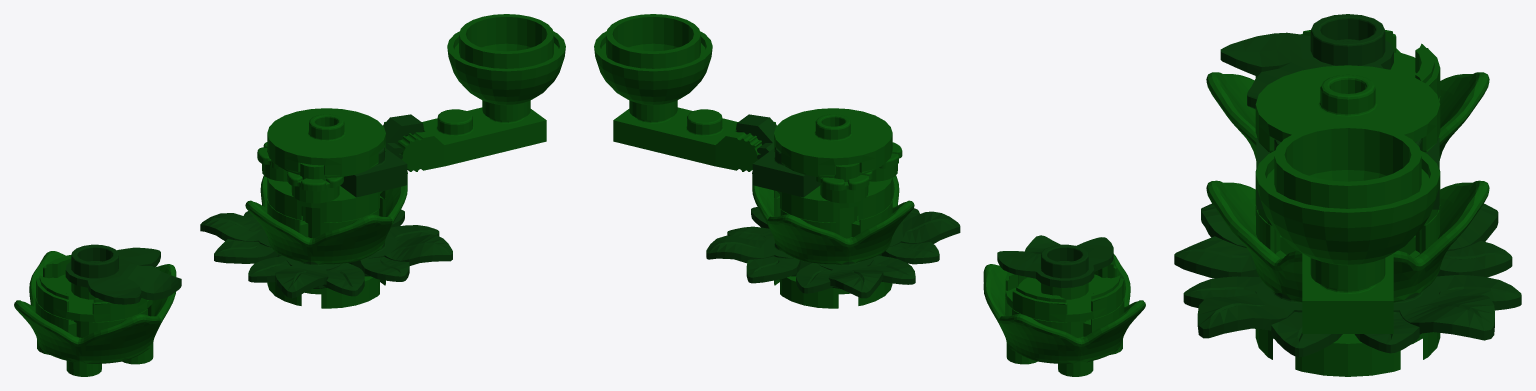
Rendered from CabbagePult.dae.
3 views of the same model, side by side, from view 1: azimuth 30°, elevation 25°; view 2: azimuth 150°, elevation 25°; view 3: azimuth 270°, elevation 25° (orthographic). The views are drawn at different scales.
Parts seen in each view (by area): view 1: Part.0, Part.2, Part.3, Part.1, Part.15, Part.11, Part.4, Part.7, Part.10, Part.14, Part.9, Part.13 (+3 smaller); view 2: Part.0, Part.2, Part.3, Part.1, Part.15, Part.4, Part.11, Part.9, Part.8, Part.14, Part.10, Part.13 (+3 smaller); view 3: Part.0, Part.3, Part.1, Part.11, Part.8, Part.7, Part.15, Part.2, Part.12, Part.10, Part.9, Part.4 (+2 smaller).
Part boxes in pixels (box(x1,y1,x2,y2)): Part.0: box(447, 14, 565, 120); Part.2: box(14, 251, 176, 376); Part.3: box(267, 108, 385, 177); Part.1: box(245, 171, 407, 264); Part.15: box(383, 107, 546, 171); Part.11: box(65, 244, 181, 304); Part.4: box(36, 254, 153, 322); Part.7: box(349, 225, 452, 281); Part.10: box(248, 256, 364, 298); Part.14: box(340, 114, 423, 197); Part.9: box(200, 211, 301, 263); Part.13: box(267, 178, 385, 222); Part.0: box(594, 14, 712, 120); Part.2: box(983, 254, 1145, 376); Part.3: box(774, 108, 892, 177); Part.1: box(752, 171, 914, 264); Part.15: box(613, 107, 776, 171); Part.4: box(1005, 263, 1123, 322); Part.11: box(997, 235, 1113, 287); Part.9: box(796, 255, 915, 298); Part.8: box(706, 226, 811, 283); Part.14: box(736, 114, 820, 197); Part.10: box(858, 208, 960, 264); Part.13: box(774, 178, 892, 222); Part.0: box(1255, 123, 1440, 289); Part.3: box(1255, 65, 1440, 152); Part.1: box(1206, 180, 1489, 302); Part.11: box(1220, 14, 1393, 109); Part.8: box(1354, 275, 1521, 353); Part.7: box(1183, 276, 1342, 356); Part.15: box(1302, 253, 1393, 333); Part.2: box(1206, 48, 1489, 160); Part.12: box(1255, 329, 1440, 376); Part.10: box(1174, 203, 1258, 278); Part.9: box(1437, 203, 1512, 277); Part.4: box(1255, 30, 1440, 99).
Bounding box in the file's own units: 84.27 × 32.4 × 30.1.
